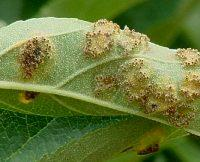Apple rust leaf: (1, 15, 200, 146)
